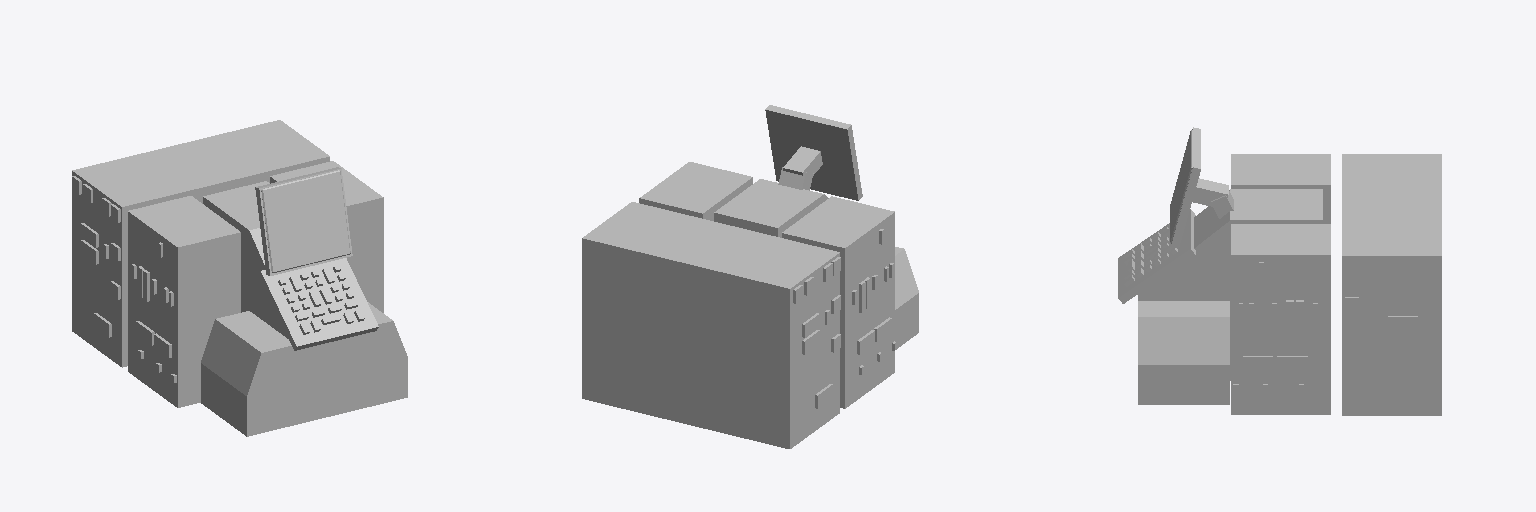
The model's file is Komputer.OBJ.
3 renders of one model, left to right at view 1: azimuth 30°, elevation 25°; view 2: azimuth 150°, elevation 25°; view 3: azimuth 270°, elevation 25°, orthographic.
Parts seen in each view (by area): view 1: Group51274, Group48845, Group35010; view 2: Group51274, Group35010; view 3: Group51274, Group35010, Group48845.
Part boxes in pixels (bbox=[...]): Group51274: bbox=[72, 120, 407, 436]; Group48845: bbox=[261, 172, 349, 271]; Group35010: bbox=[72, 176, 176, 382]; Group51274: bbox=[582, 105, 918, 448]; Group35010: bbox=[793, 229, 896, 408]; Group51274: bbox=[1118, 127, 1441, 415]; Group35010: bbox=[1233, 259, 1435, 393]; Group48845: bbox=[1170, 130, 1192, 241].
Size of the model in its own units: 1.99 by 1.96 by 2.64.